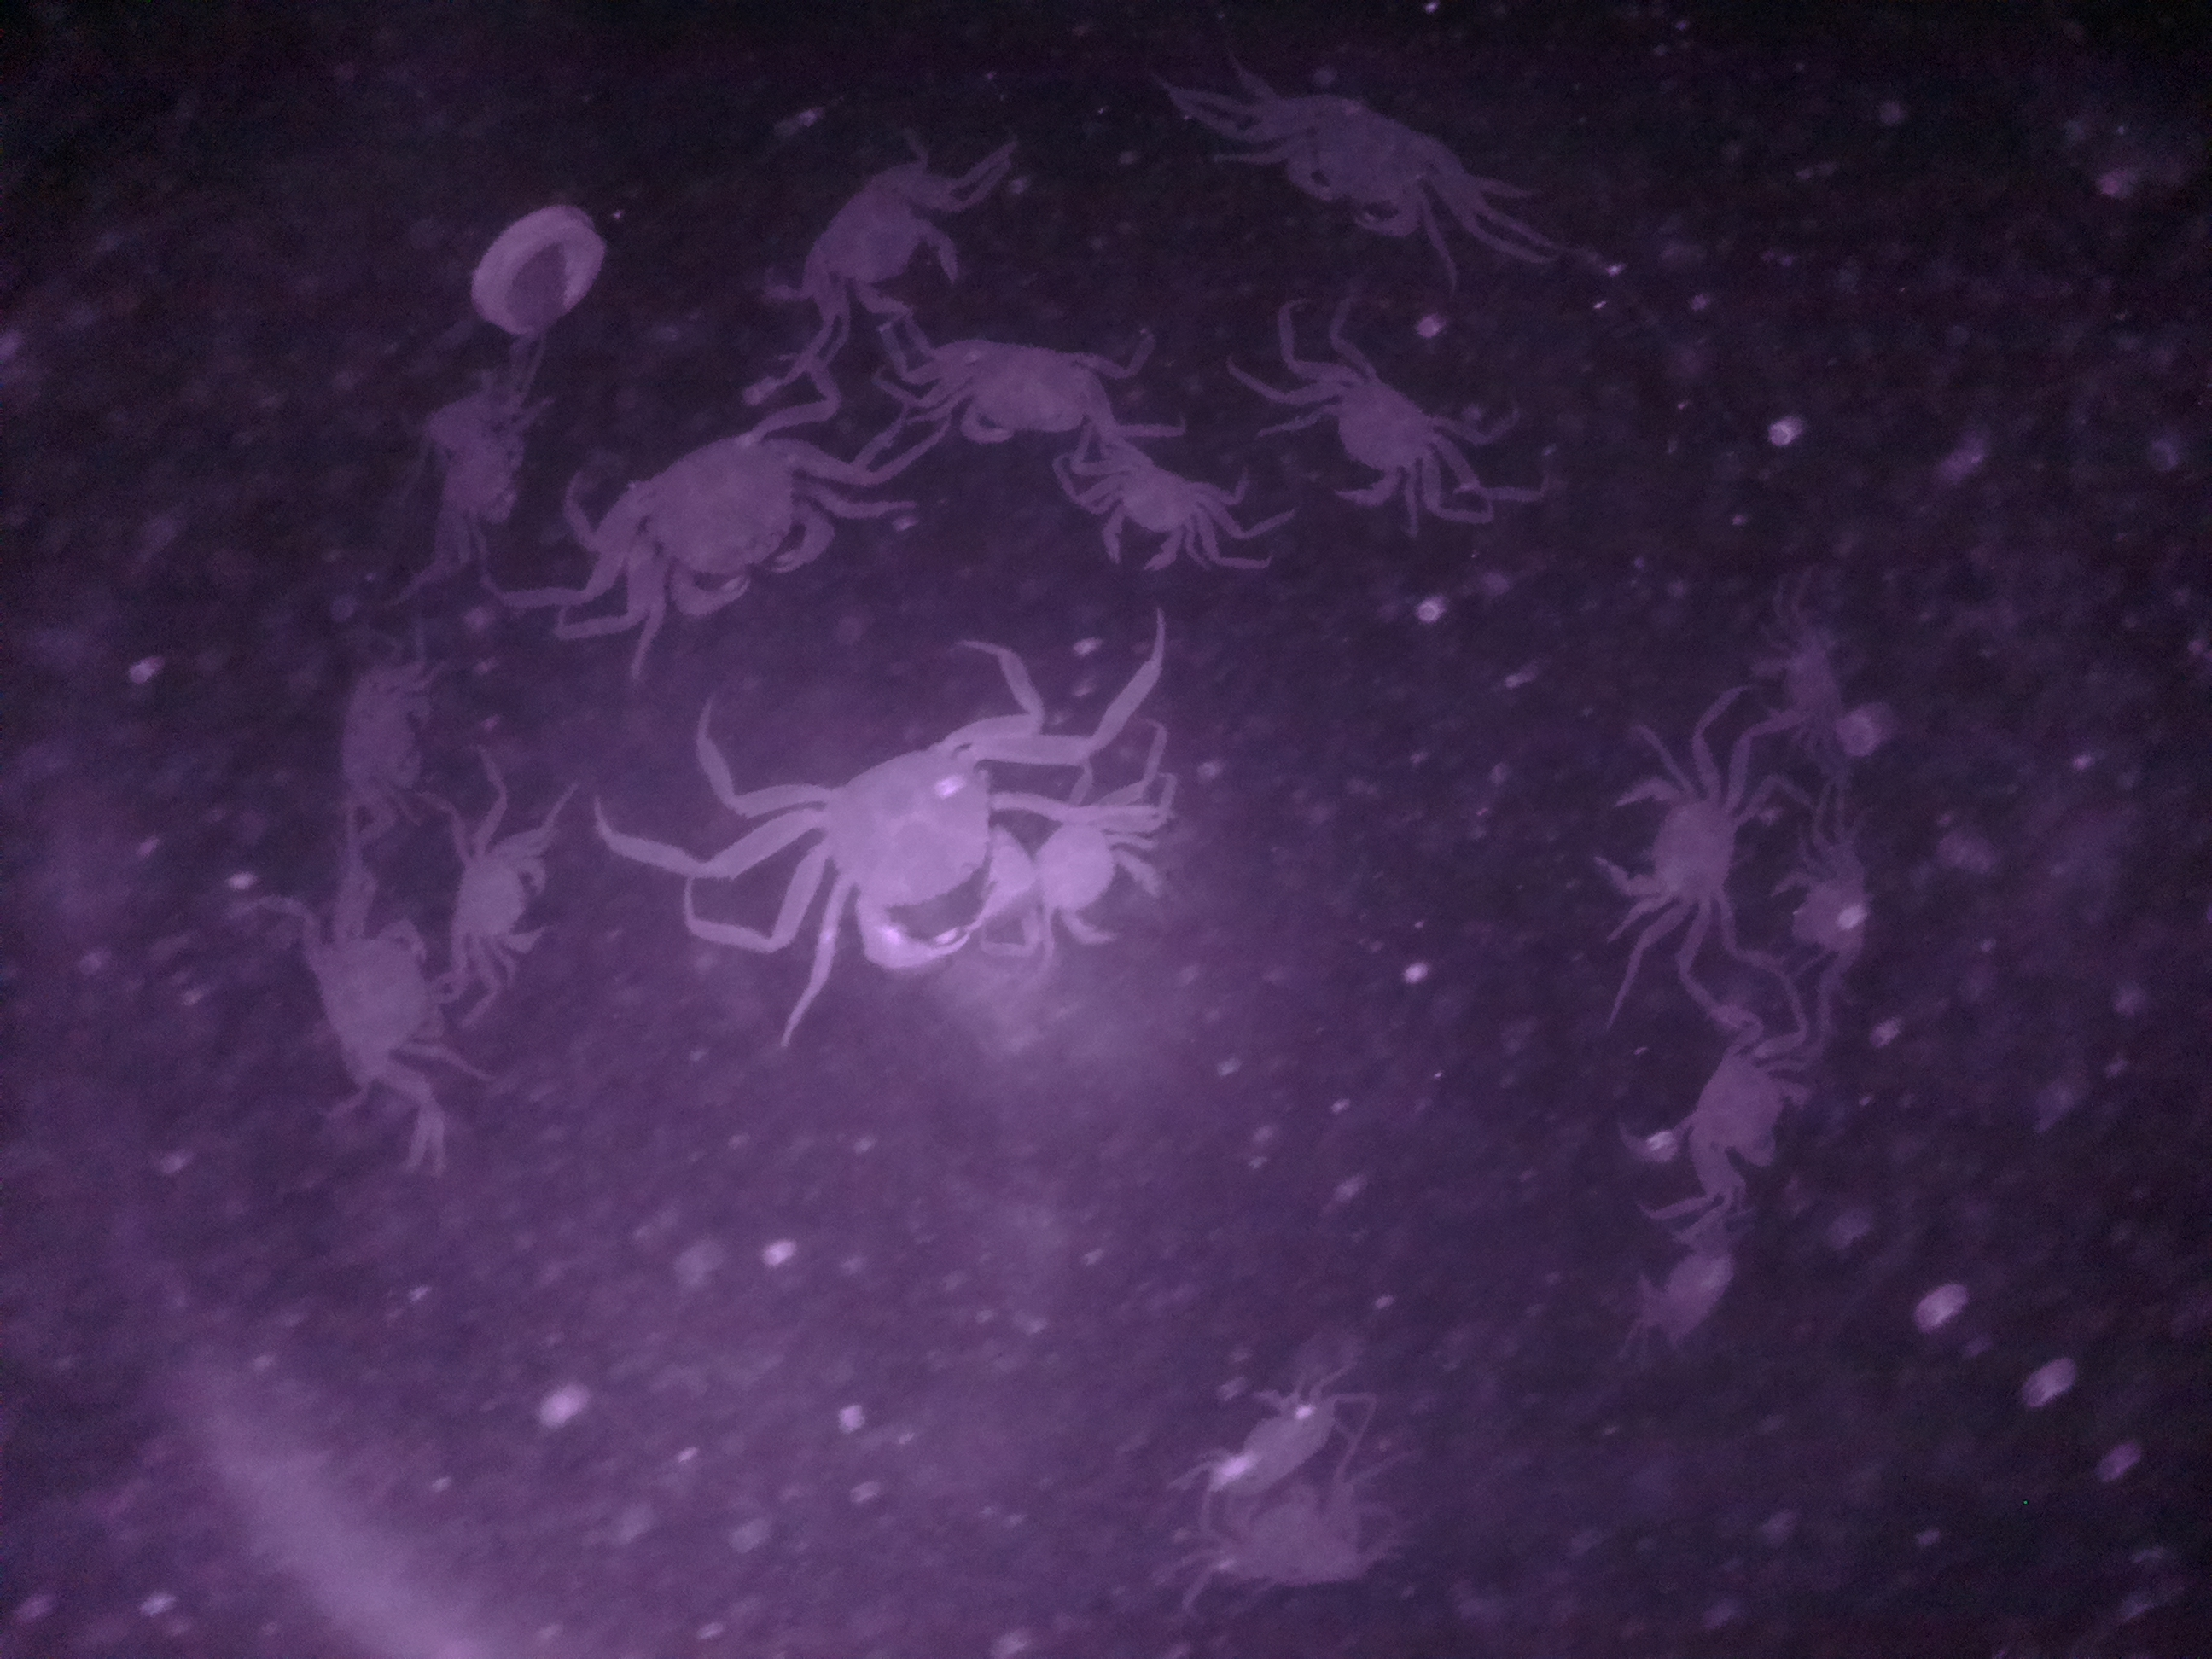Crab: (759, 714, 1036, 972), (610, 399, 867, 645), (280, 899, 456, 1121), (1245, 84, 1487, 240), (1590, 763, 1764, 953), (1649, 1014, 1827, 1197), (786, 176, 970, 328), (1263, 368, 1456, 507), (941, 329, 1137, 457), (1069, 453, 1235, 591), (439, 816, 570, 967), (1784, 836, 1879, 985)
